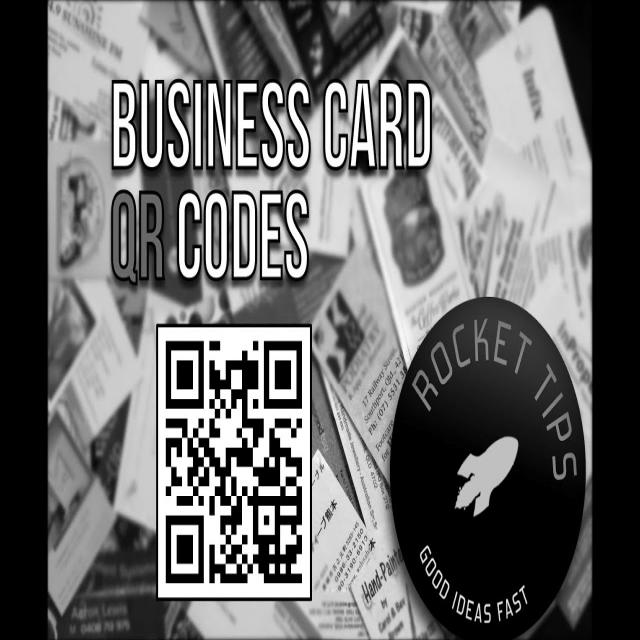QR-codes: (159, 330, 308, 590)
